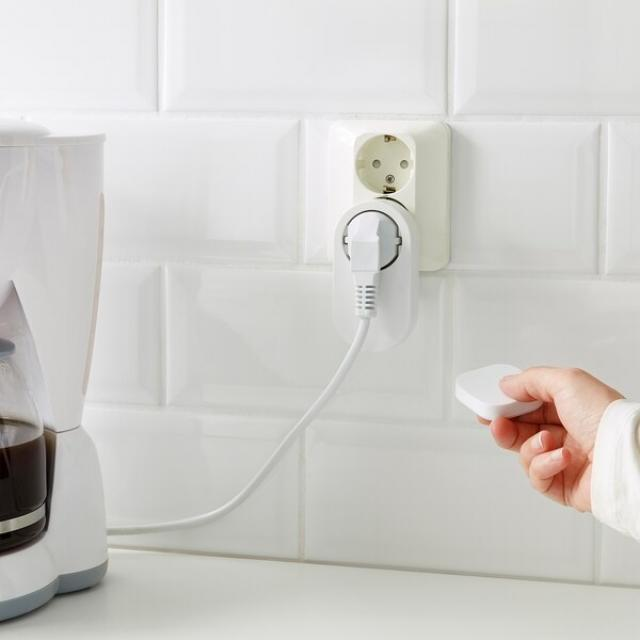typeb: (310, 110, 473, 340)
